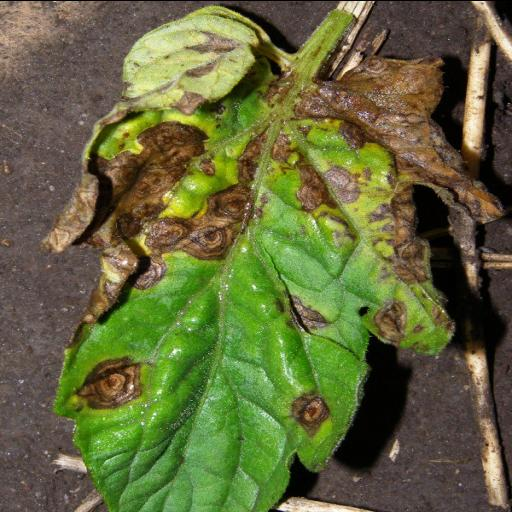disease_tomato: (41, 4, 499, 512)
